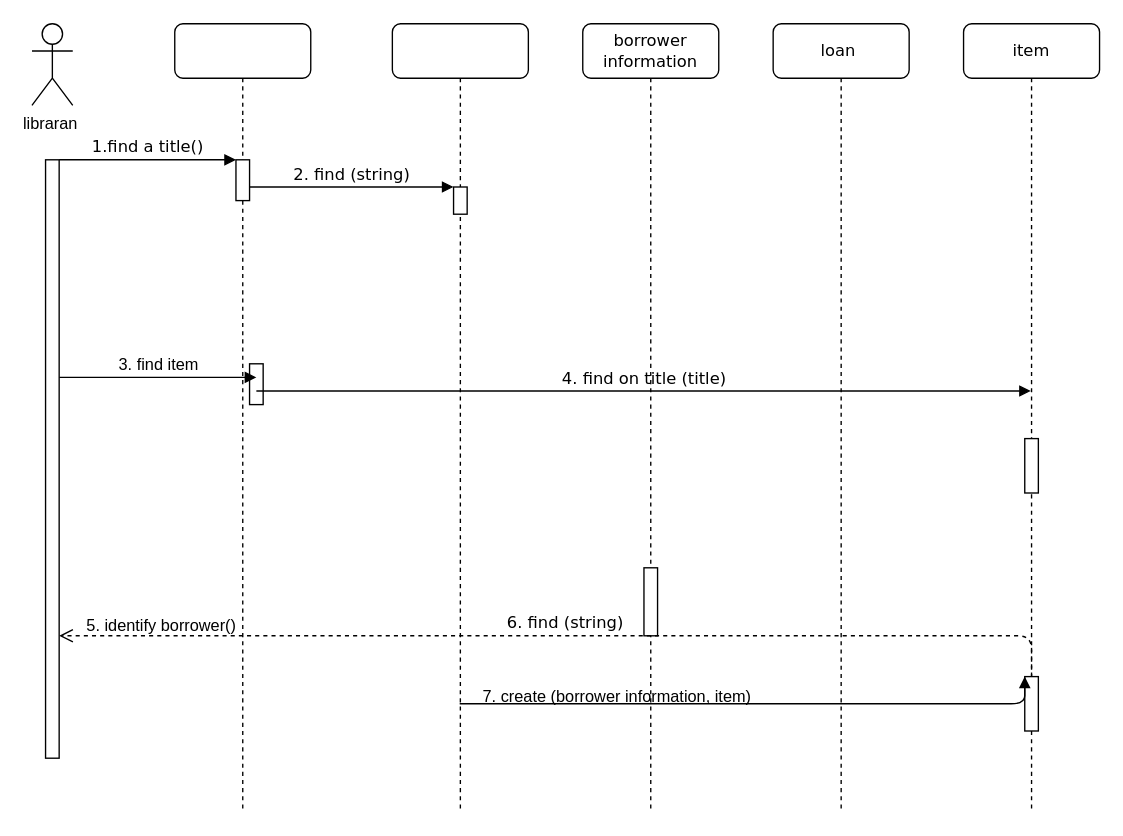
Some shapes in this 1123 by 836 pixel diagram are drawn without their labels. The box of each missing label's shape, as (x1, y1, x2, y2) in pixels:
lend window: (173, 22, 311, 813)
title: (391, 22, 528, 813)
